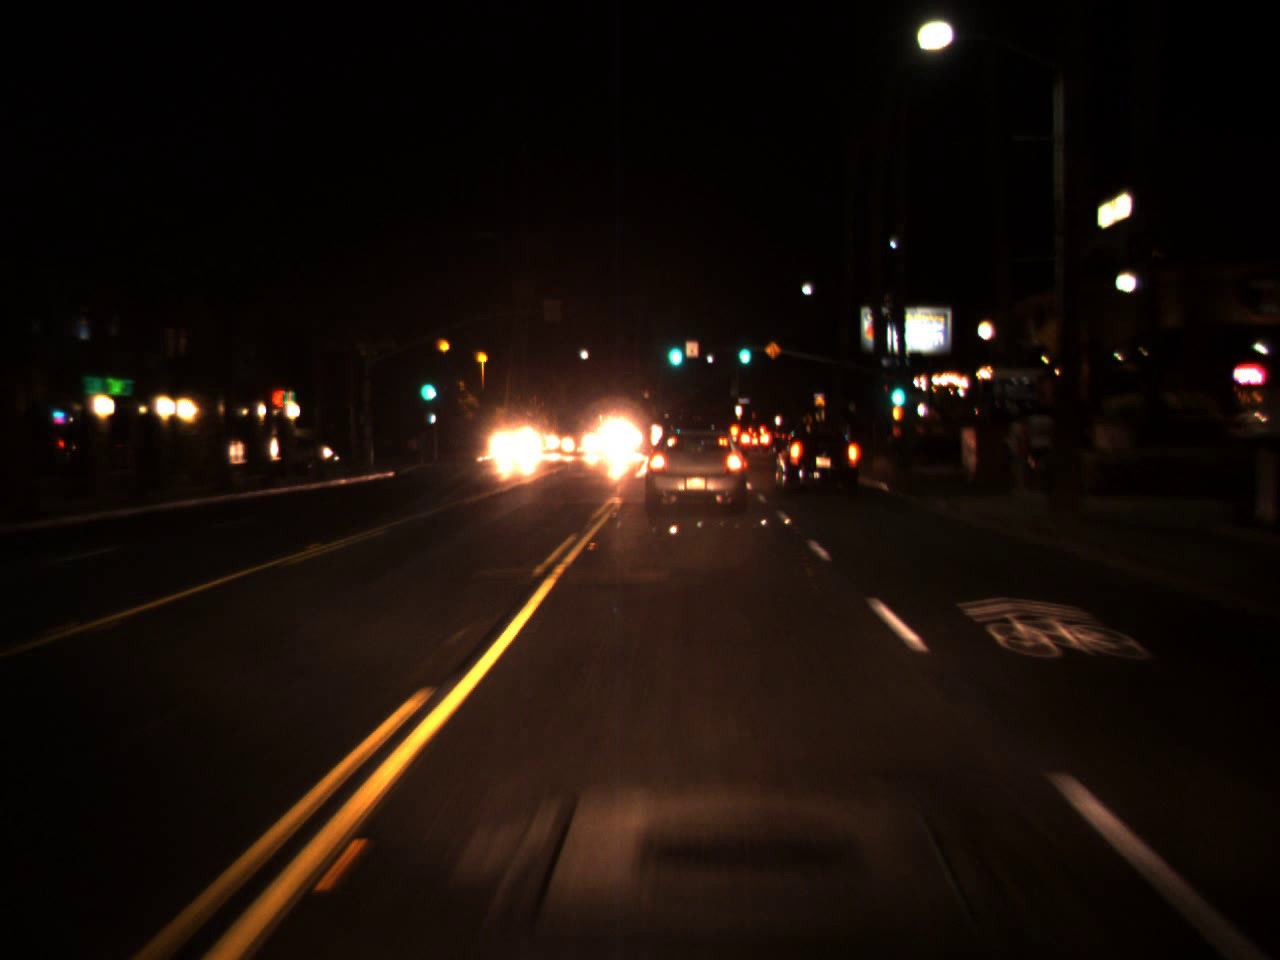go: (883, 364, 910, 412), (416, 362, 437, 407), (664, 326, 685, 371), (735, 335, 753, 365)
